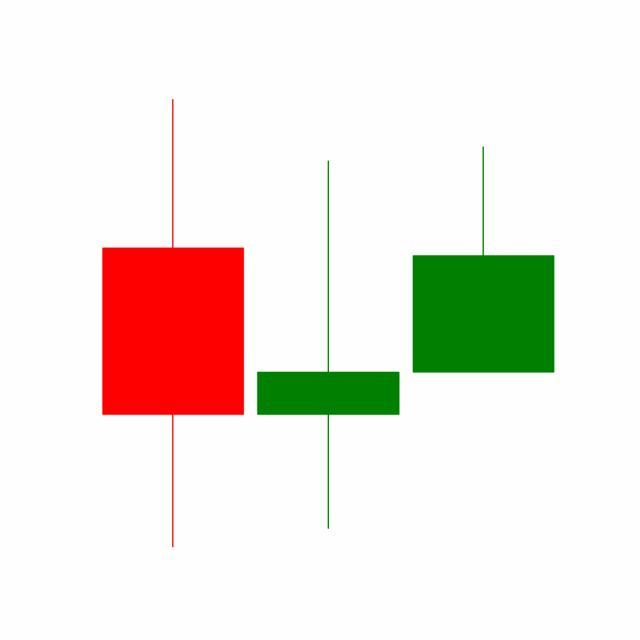Spinning Top: (250, 157, 407, 534)
